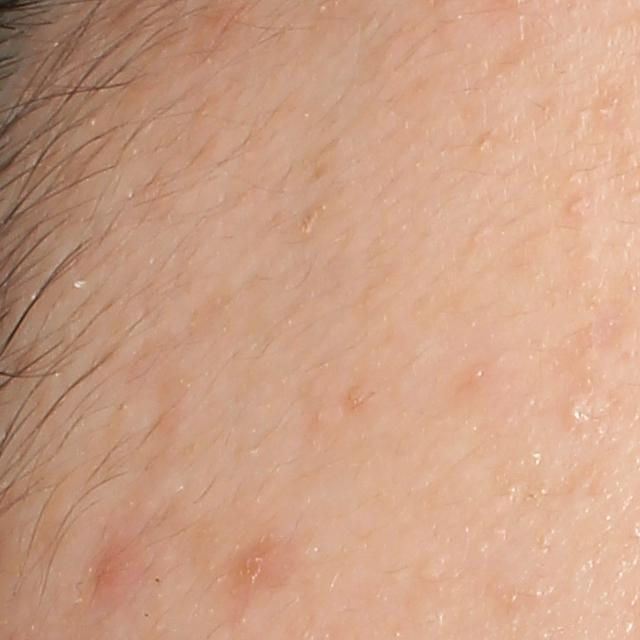comedo: (564, 195, 590, 221), (567, 397, 590, 423), (595, 102, 615, 122)
papule: (87, 537, 138, 604)
